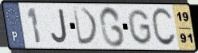1: (27, 7, 43, 45)
C: (150, 6, 178, 48)
D: (71, 7, 100, 47)
G: (98, 5, 126, 48), (126, 8, 154, 47)
J: (50, 8, 69, 45)
